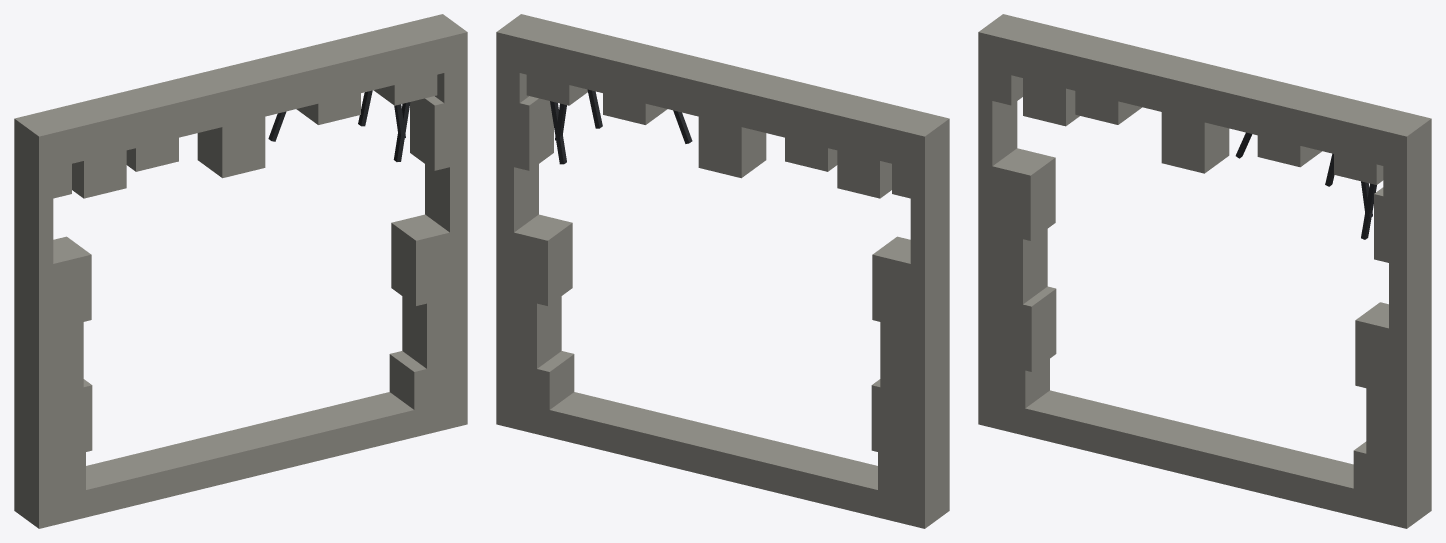
Rendered from cc_holeo.glb.
3 views of the same model, side by side, from view 1: azimuth 30°, elevation 25°; view 2: azimuth 150°, elevation 25°; view 3: azimuth 330°, elevation 25° (orthographic).
Visible parts, largest first — view 1: city_cc_holeo; view 2: city_cc_holeo; view 3: city_cc_holeo.
Boxes of the visible parts, x1=… form: city_cc_holeo: x1=14, y1=14, x2=467, y2=528; city_cc_holeo: x1=496, y1=14, x2=949, y2=528; city_cc_holeo: x1=978, y1=14, x2=1431, y2=528.
Bounding box in the file's own units: 4 × 3.5 × 0.4.
2 materials, 2 textured.
